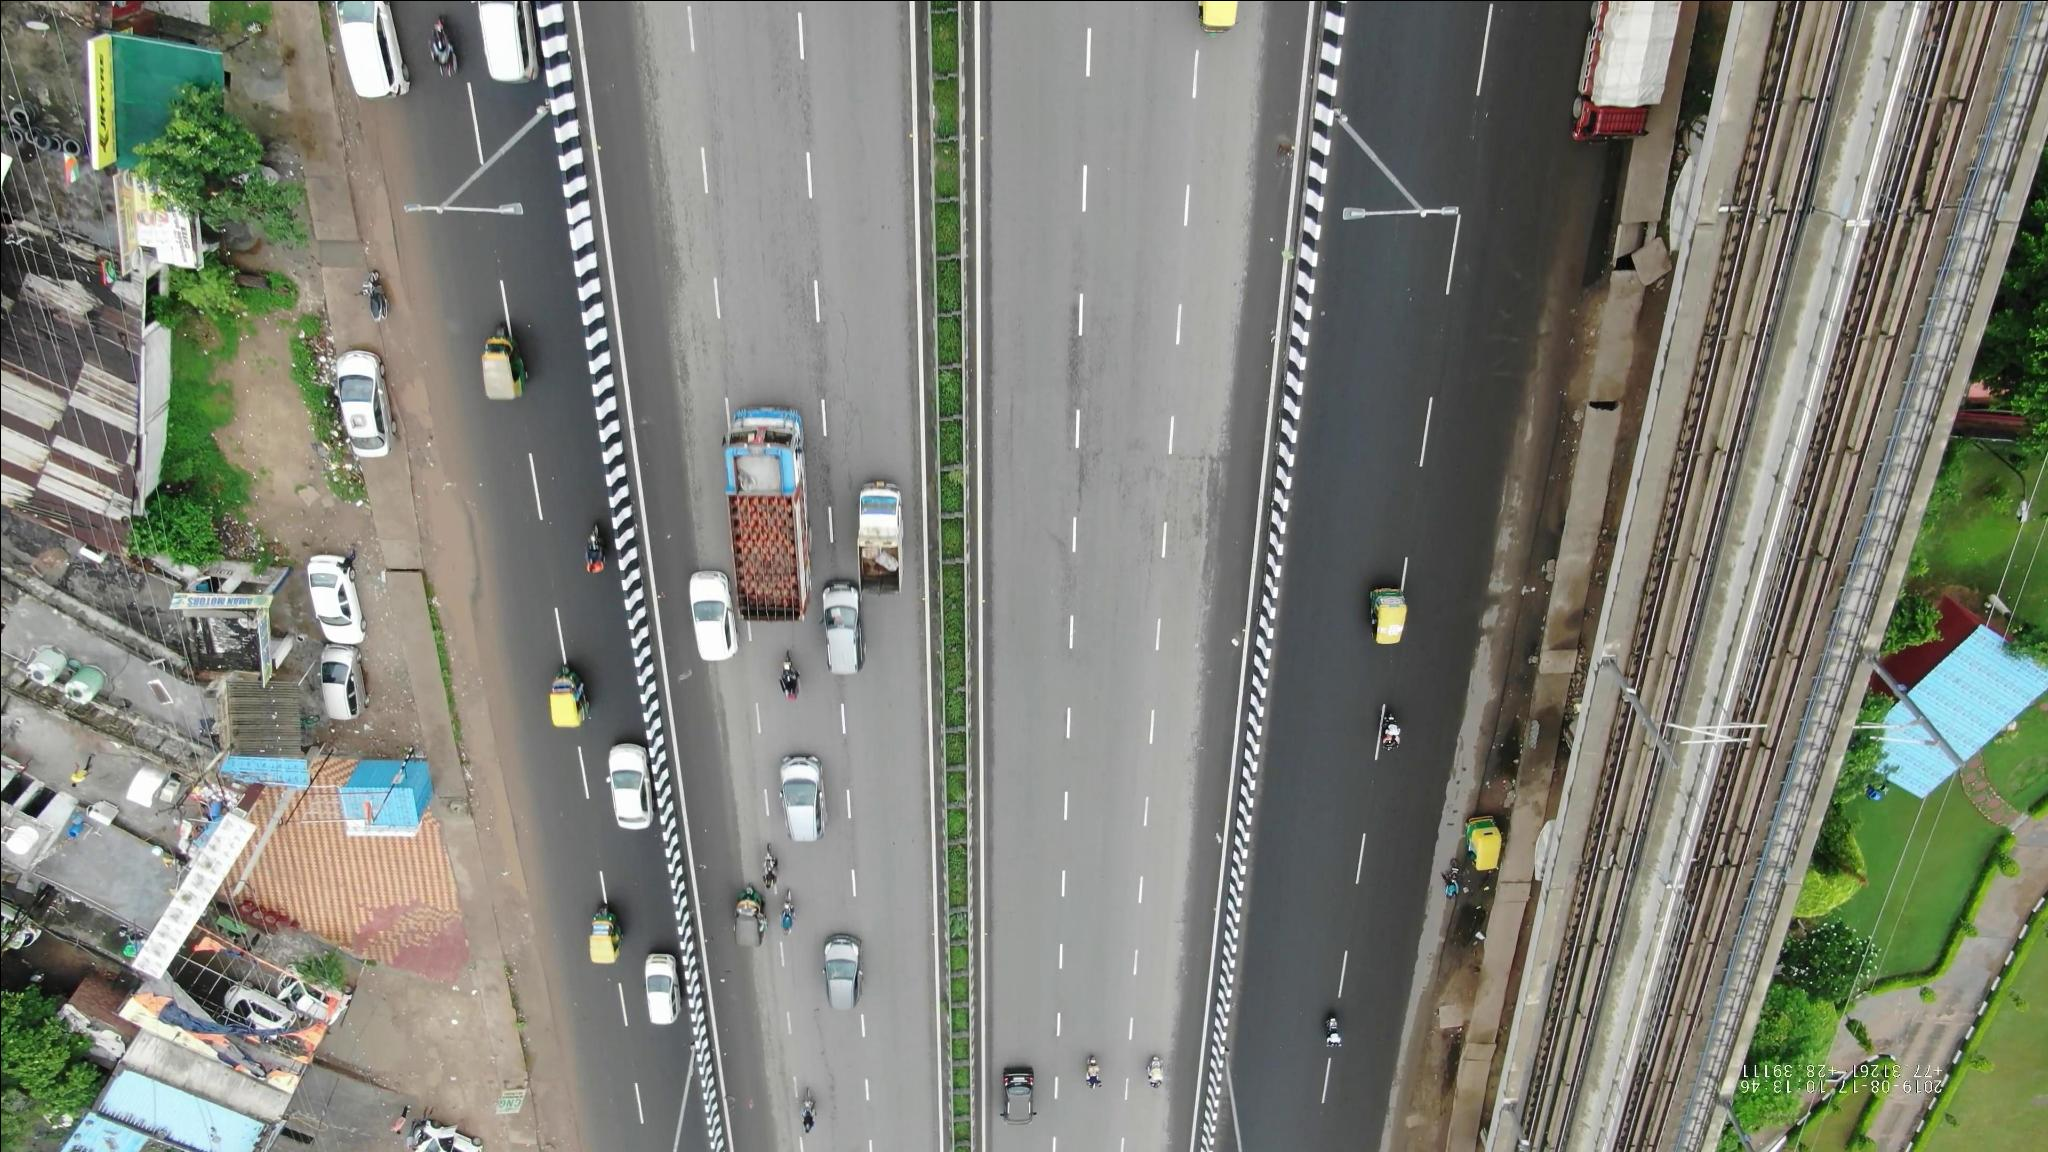Cracks: (1089, 433, 1215, 543)
